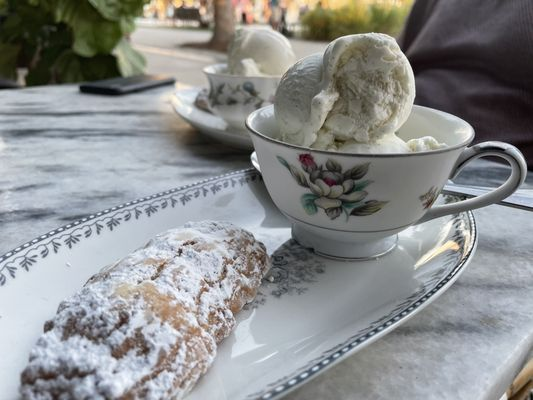sushi: (246, 101, 529, 260), (169, 62, 283, 153)
